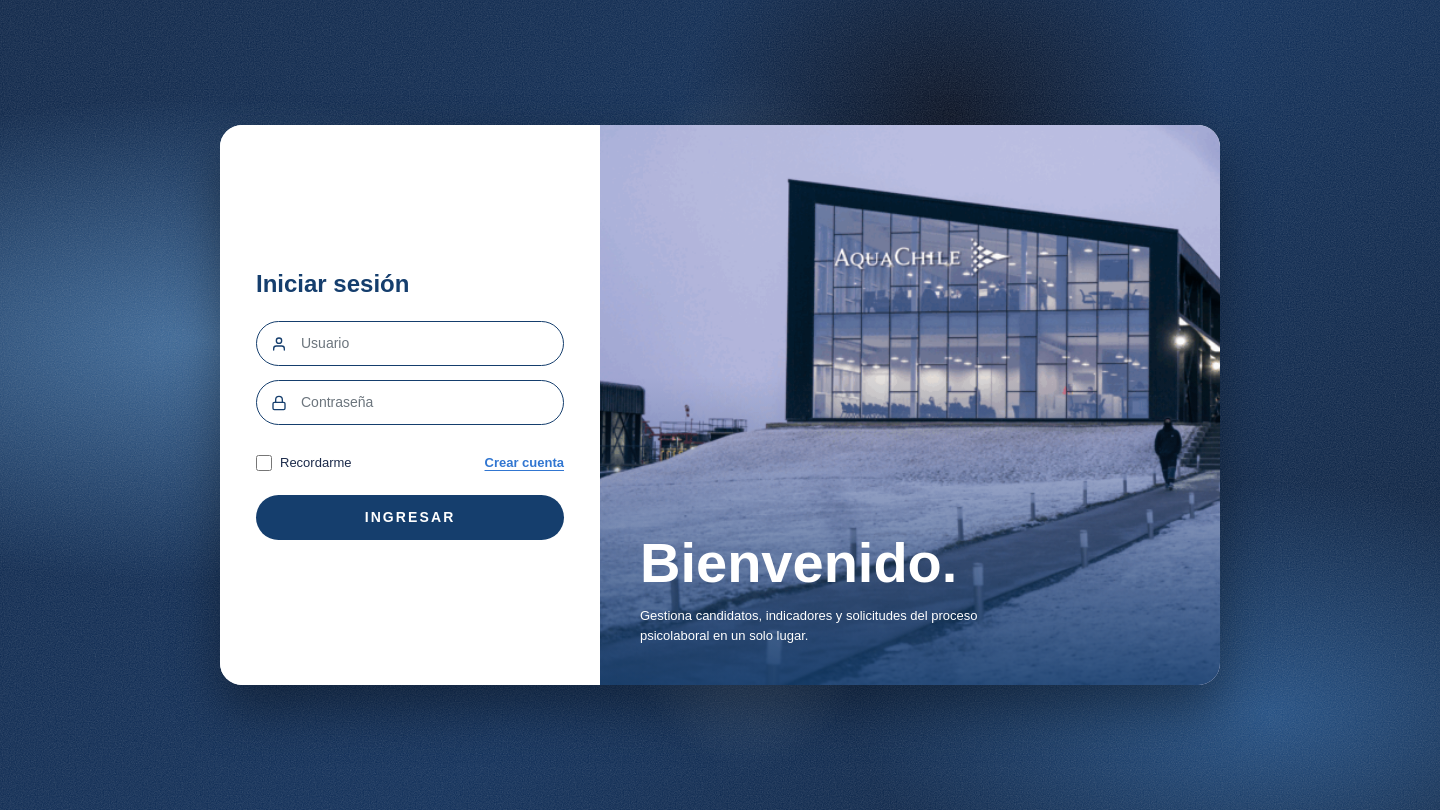
Scenario: Login › muestra error con credenciales incorrectas
Type "admin" into the field labelled "Usuario" at (432, 344), box [301, 322, 563, 365]
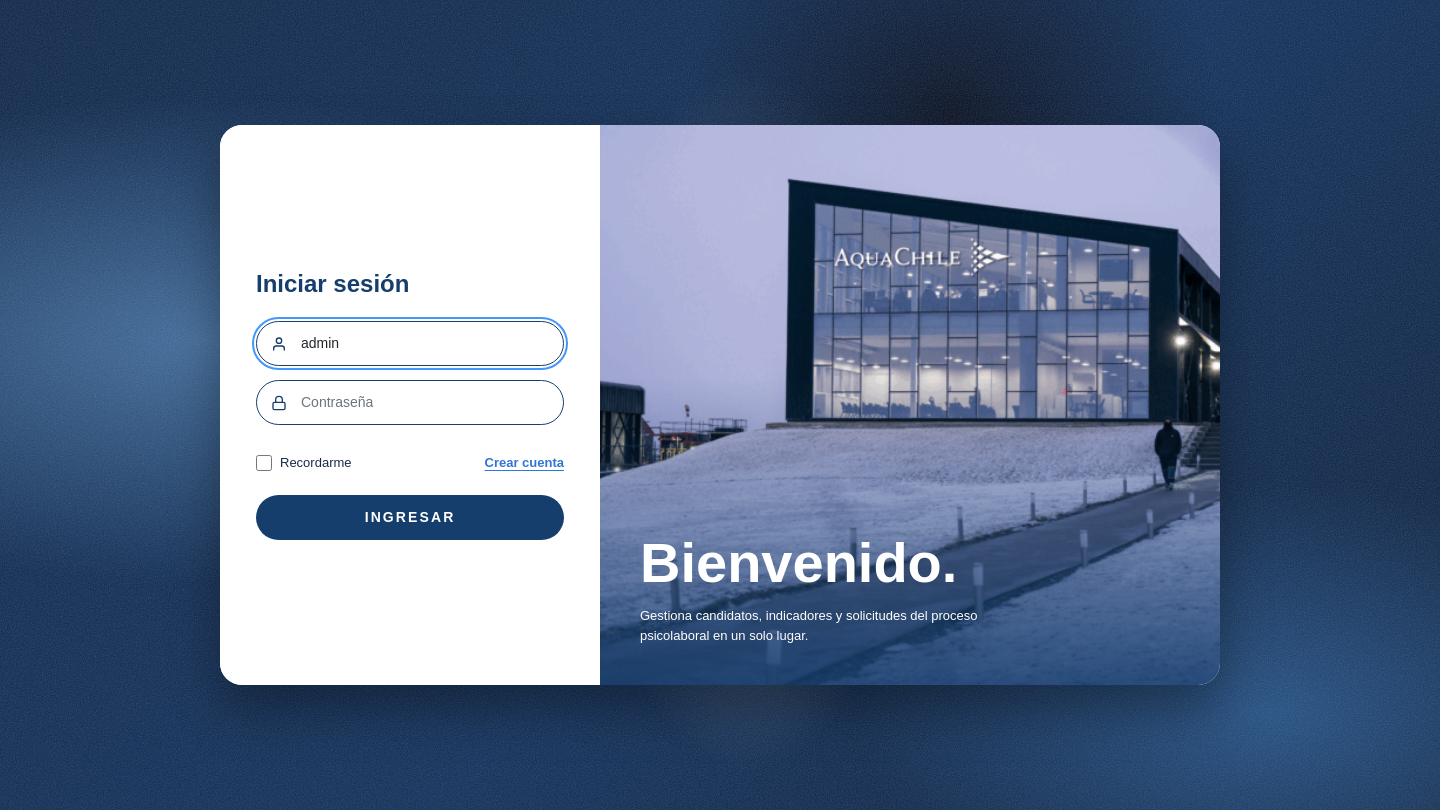
Type "mala" into the password field labelled "Contraseña" at (432, 403), box [301, 381, 563, 424]
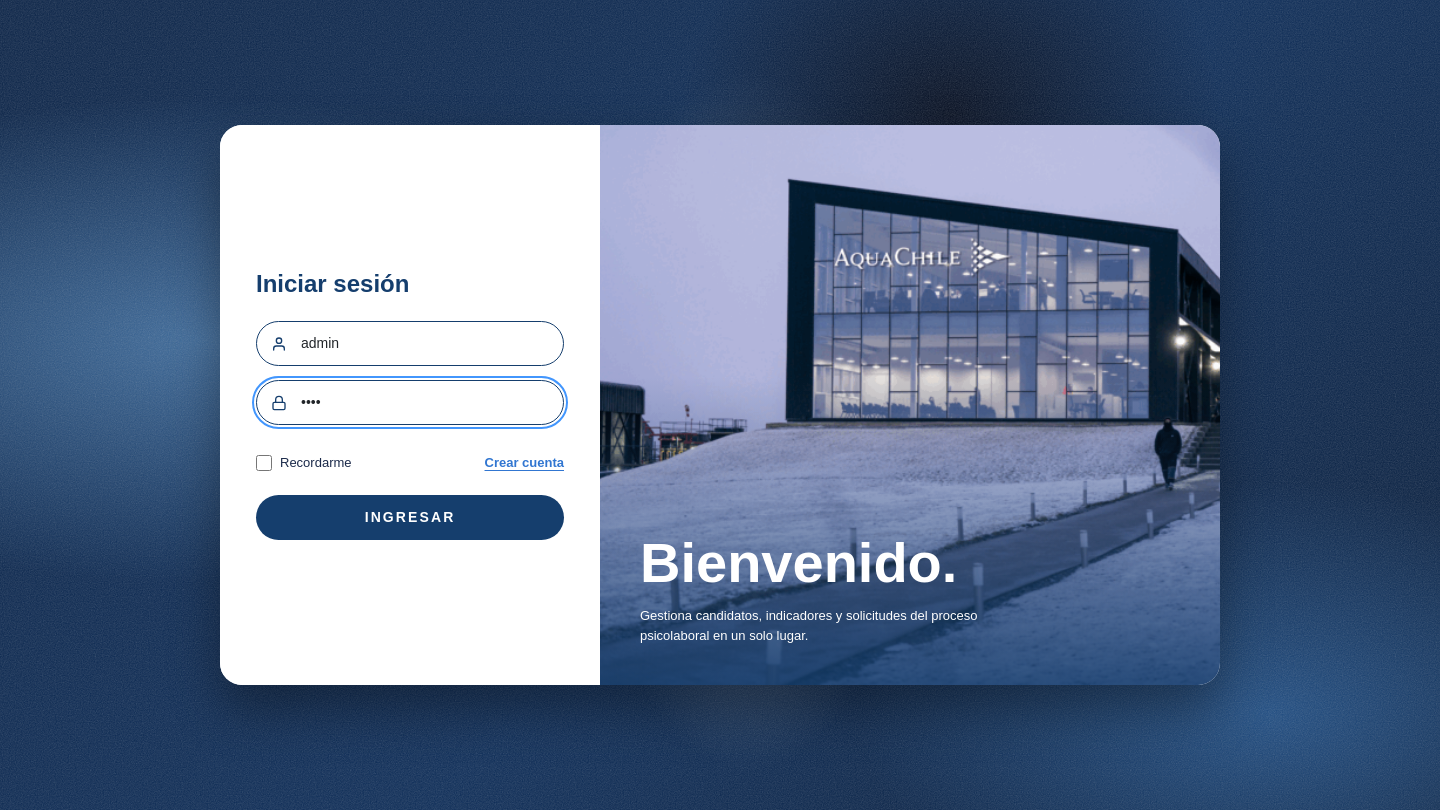
Click the button "INGRESAR" at (410, 517), box [256, 495, 564, 540]
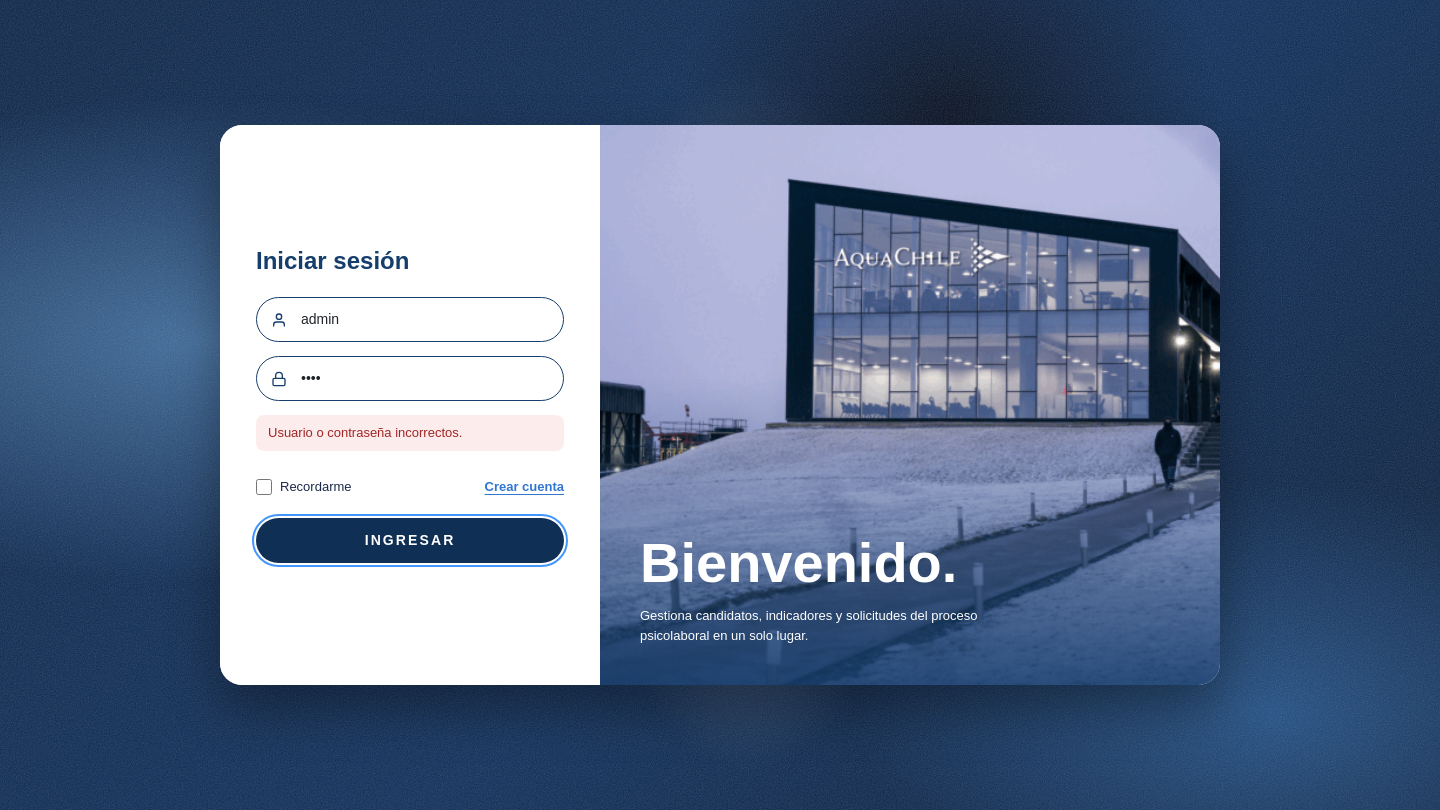
Result: the text "Usuario o contraseña incorrectos." is shown at [256, 415, 564, 451]
